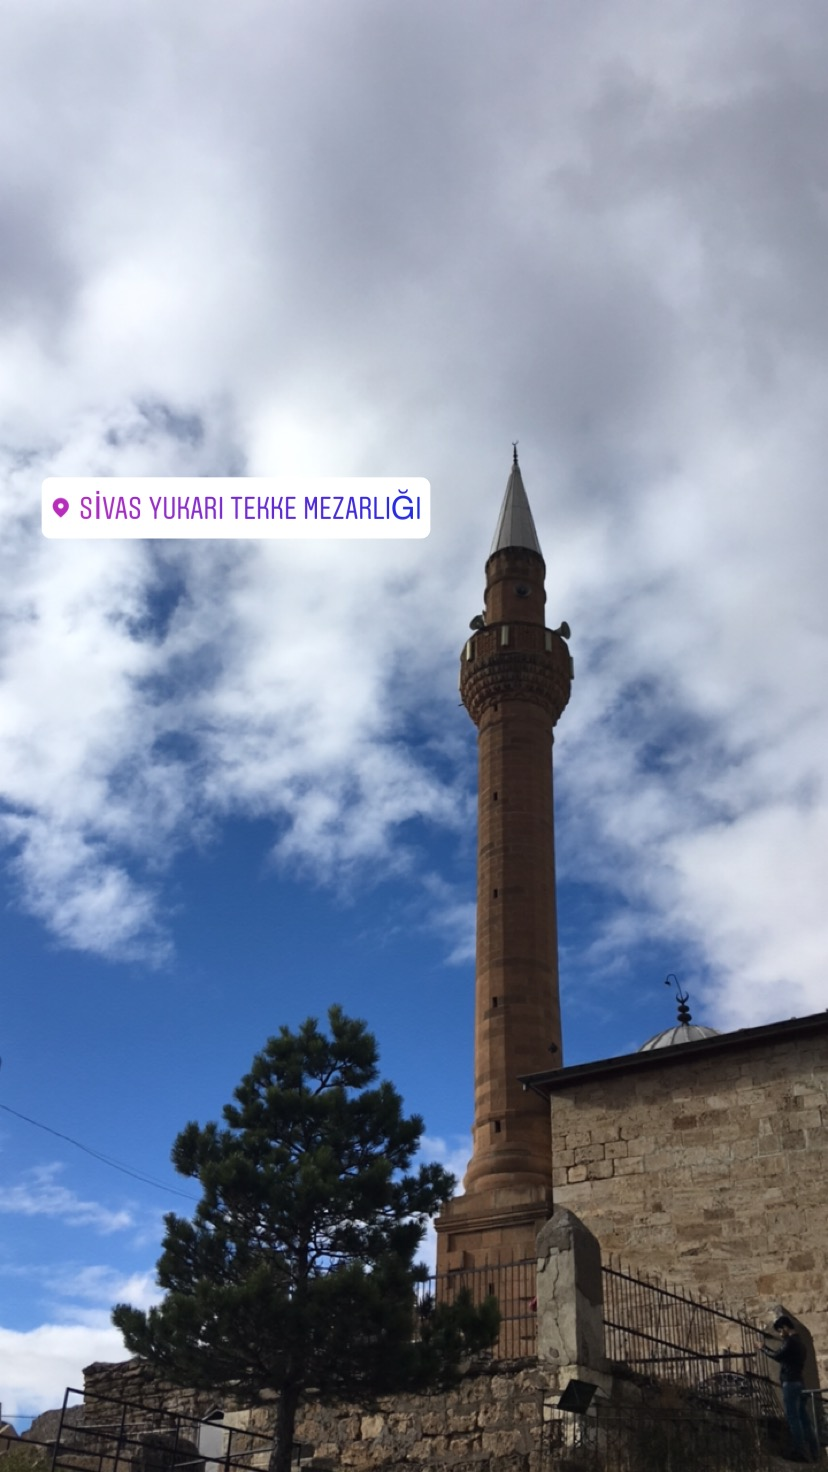copdegil: (26, 342, 828, 1433)
